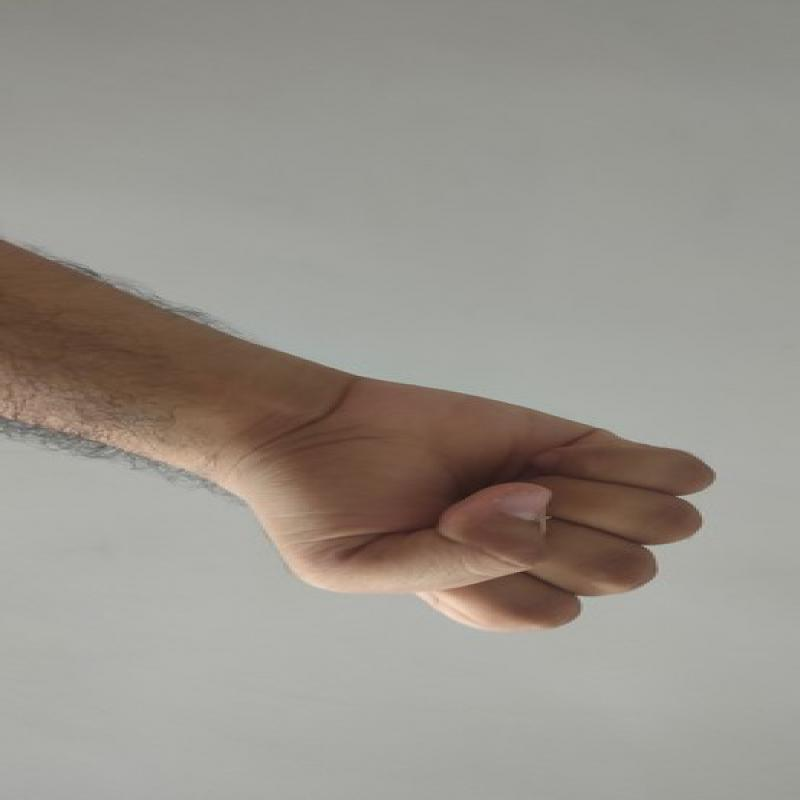Mushti: (251, 350, 722, 641)
